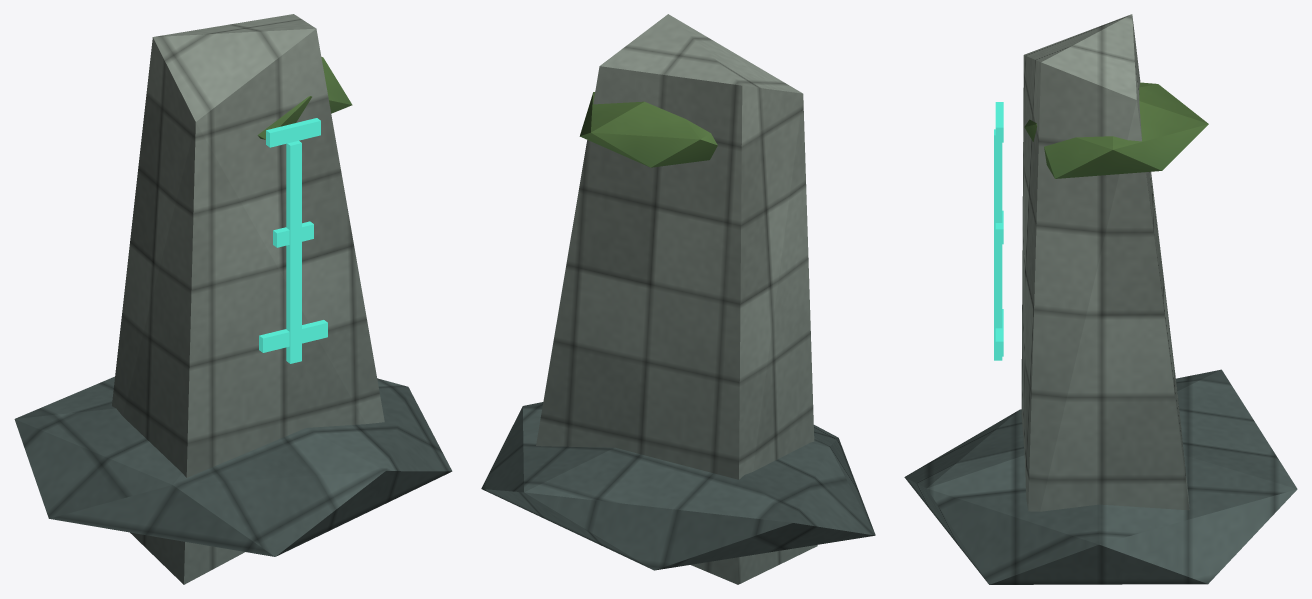
Rendered from standing_stone_b.glb.
The picture shows the model from 3 angles, left to right: view 1: azimuth 30°, elevation 25°; view 2: azimuth 150°, elevation 25°; view 3: azimuth 270°, elevation 25°; orthographic projection. The views are drawn at different scales.
Visible parts, largest first — view 1: standing_stone_b; view 2: standing_stone_b; view 3: standing_stone_b.
Part boxes in pixels (<box>): standing_stone_b: <box>14,14,452,584</box>; standing_stone_b: <box>481,14,875,584</box>; standing_stone_b: <box>904,14,1297,584</box>.
Size of the model in its own units: 1.55 by 2.12 by 1.42.
Materials: 3 (3 with a texture image).
